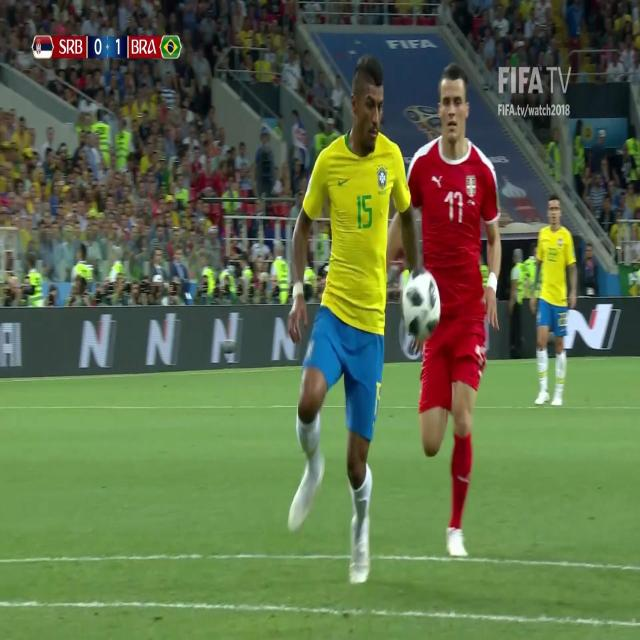ball: (398, 263, 442, 342)
player: (263, 36, 433, 599), (390, 54, 513, 574), (524, 190, 580, 408)
